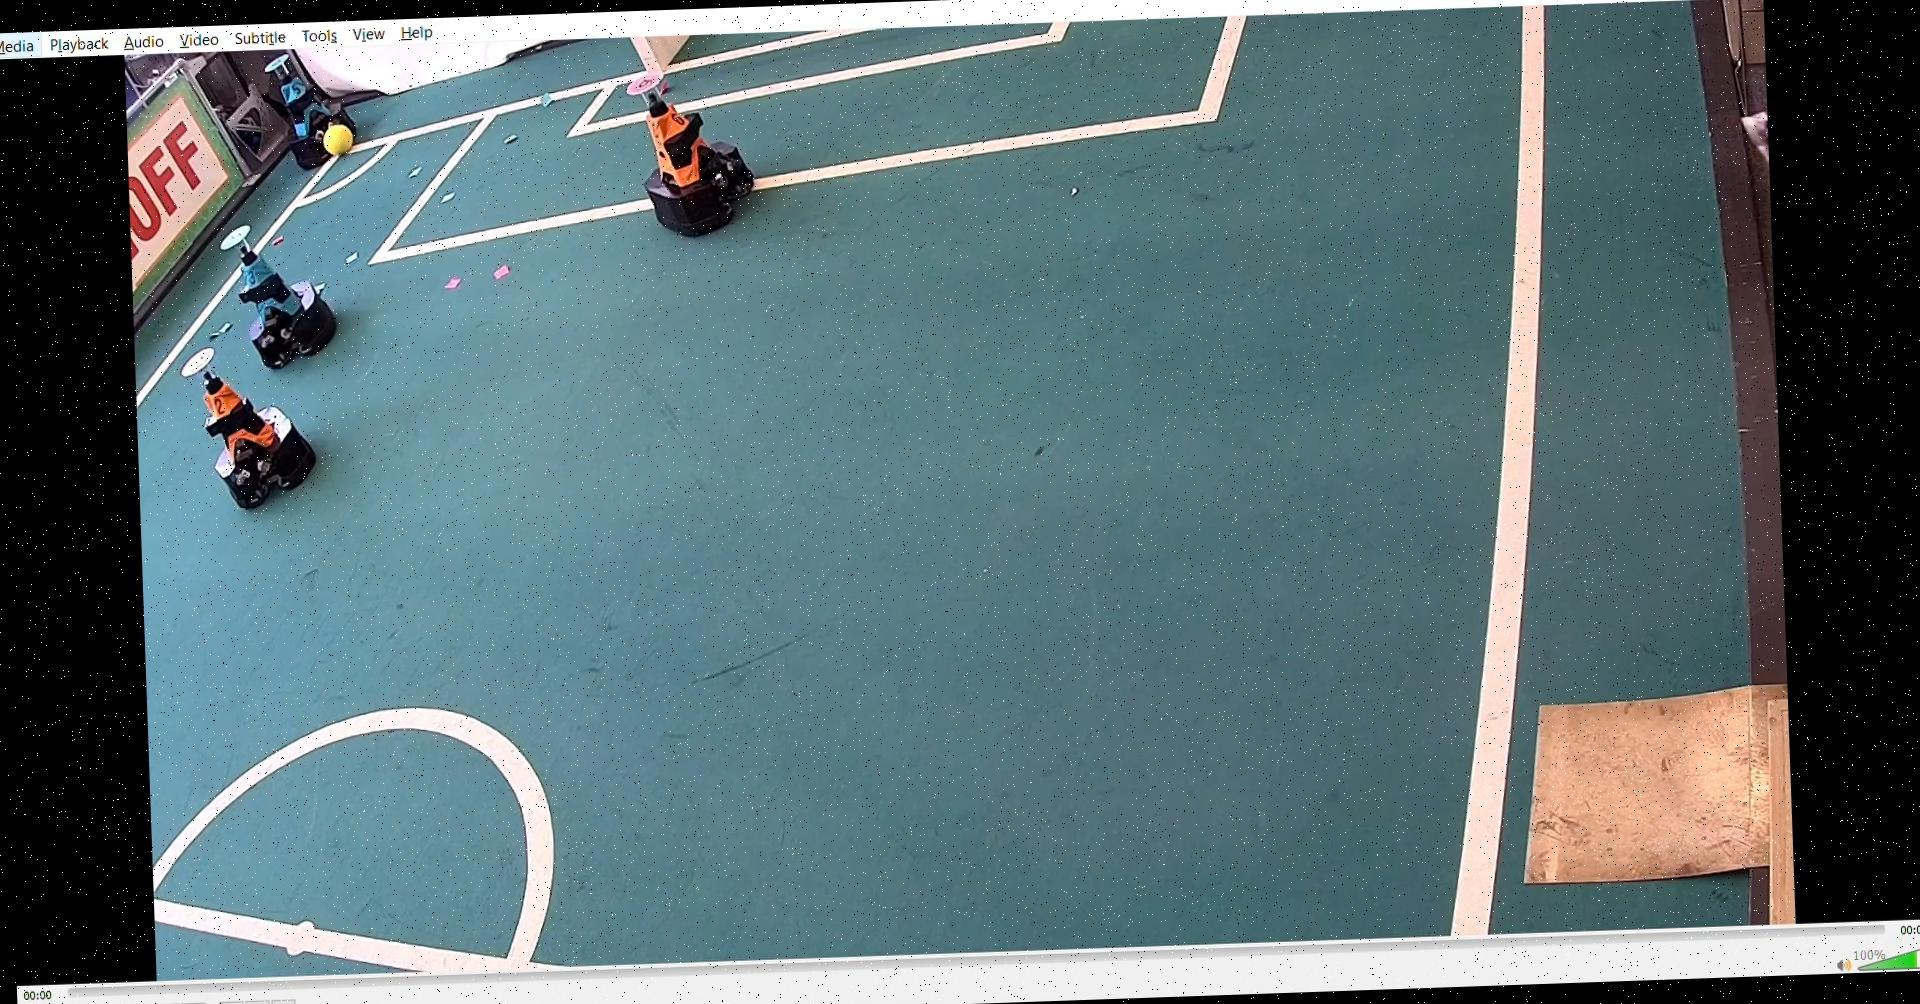Ball: (316, 118, 362, 164)
Team_Blue: (215, 216, 339, 360), (260, 53, 371, 169)
Team_Red: (179, 343, 325, 517)
